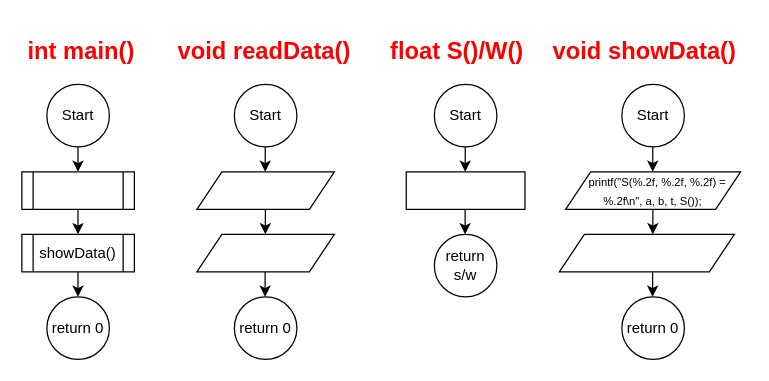
The diagram is 769 pixels wide and 381 high, and some of its shapes have lost their labels. Here are the shapes that lost their labels. From the top down, the centre of each, then its label:
pixel 77 190: readData()
pixel 265 190: printf("Introduceti valoarile: ");
pixel 465 190: w = b*sin (a*t*t*cos(2*t))-1;
pixel 265 252: scanf("%f",&a);
pixel 646 252: printf("W(%.2f, %.2f, %.2f) = %.2f\n", a, b, t, W());
